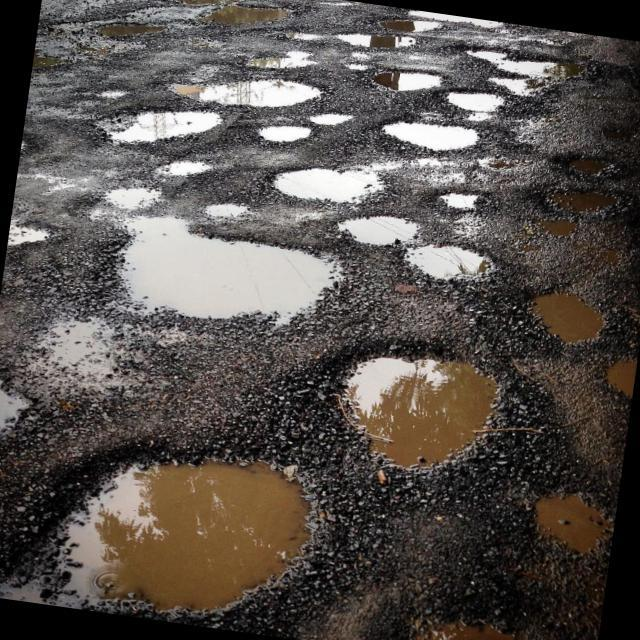Pothole: (30, 414, 332, 640), (78, 184, 394, 334), (332, 330, 506, 456), (254, 150, 429, 236), (446, 46, 606, 111), (165, 62, 345, 115), (382, 232, 508, 303), (506, 270, 620, 347), (104, 96, 236, 162), (534, 472, 611, 574), (402, 597, 564, 640), (176, 0, 317, 46), (325, 202, 432, 262), (326, 20, 426, 66), (358, 65, 464, 101), (382, 123, 482, 158), (591, 351, 638, 420), (371, 6, 453, 44), (6, 208, 64, 261), (83, 16, 183, 46), (0, 388, 39, 461), (77, 78, 152, 108), (148, 154, 222, 184), (558, 148, 618, 180), (442, 86, 510, 114), (562, 182, 624, 212), (538, 218, 596, 248), (476, 156, 548, 180), (250, 124, 316, 150), (576, 234, 618, 272), (32, 48, 72, 78), (339, 56, 378, 80), (310, 114, 356, 132), (458, 113, 506, 130)
